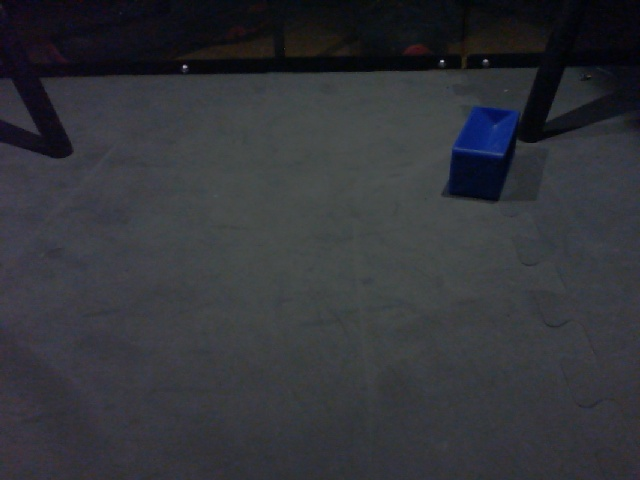BlueSample: (446, 105, 519, 203)
